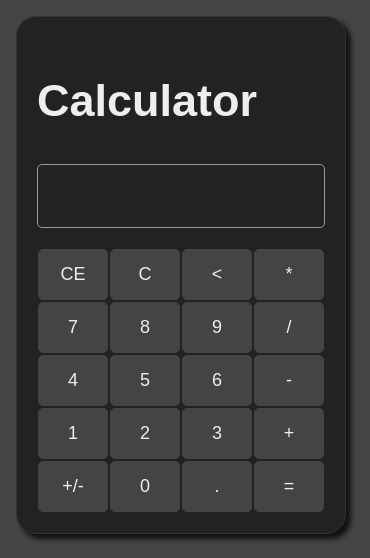
Test: Calculator › should user input after clicking several number and operations
Click the button "1". click: (73, 433)
box: top-left (38, 408), bottom-right (108, 459)
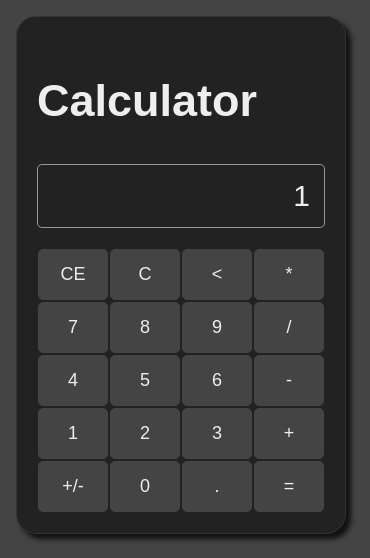
Check: the field holds "1", box top-left (37, 164), bottom-right (325, 228)
Click the button "+". click: (289, 433)
box: top-left (254, 408), bottom-right (324, 459)
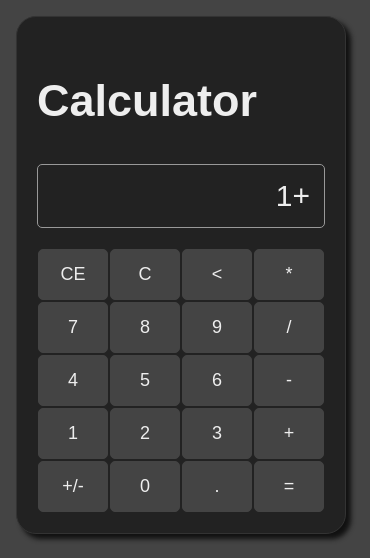
Click the button "2". click: (145, 433)
box: top-left (110, 408), bottom-right (180, 459)
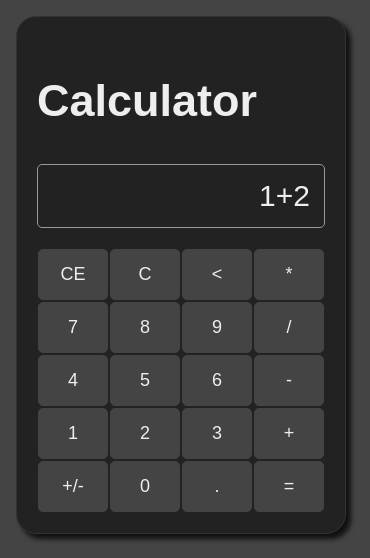
Check: the field holds "1+2", box top-left (37, 164), bottom-right (325, 228)
